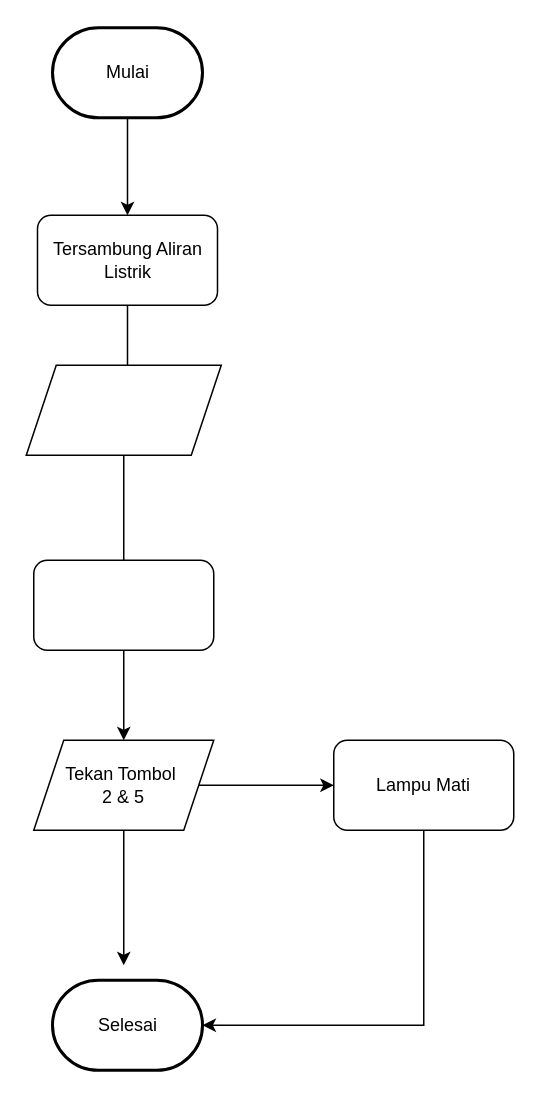
The diagram is 540 pixels wide and 1097 high, and some of its shapes have lost their labels. Each missing label, with the centre of its shape:
"Lampu On" goes at (x=123, y=604).
"Tekan tombol 1 & 4" goes at (x=123, y=409).
